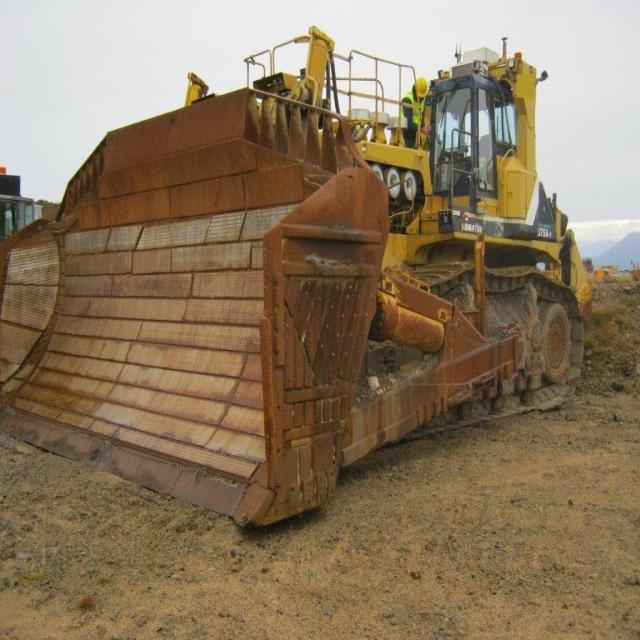Bulldozer: (14, 21, 610, 579)
